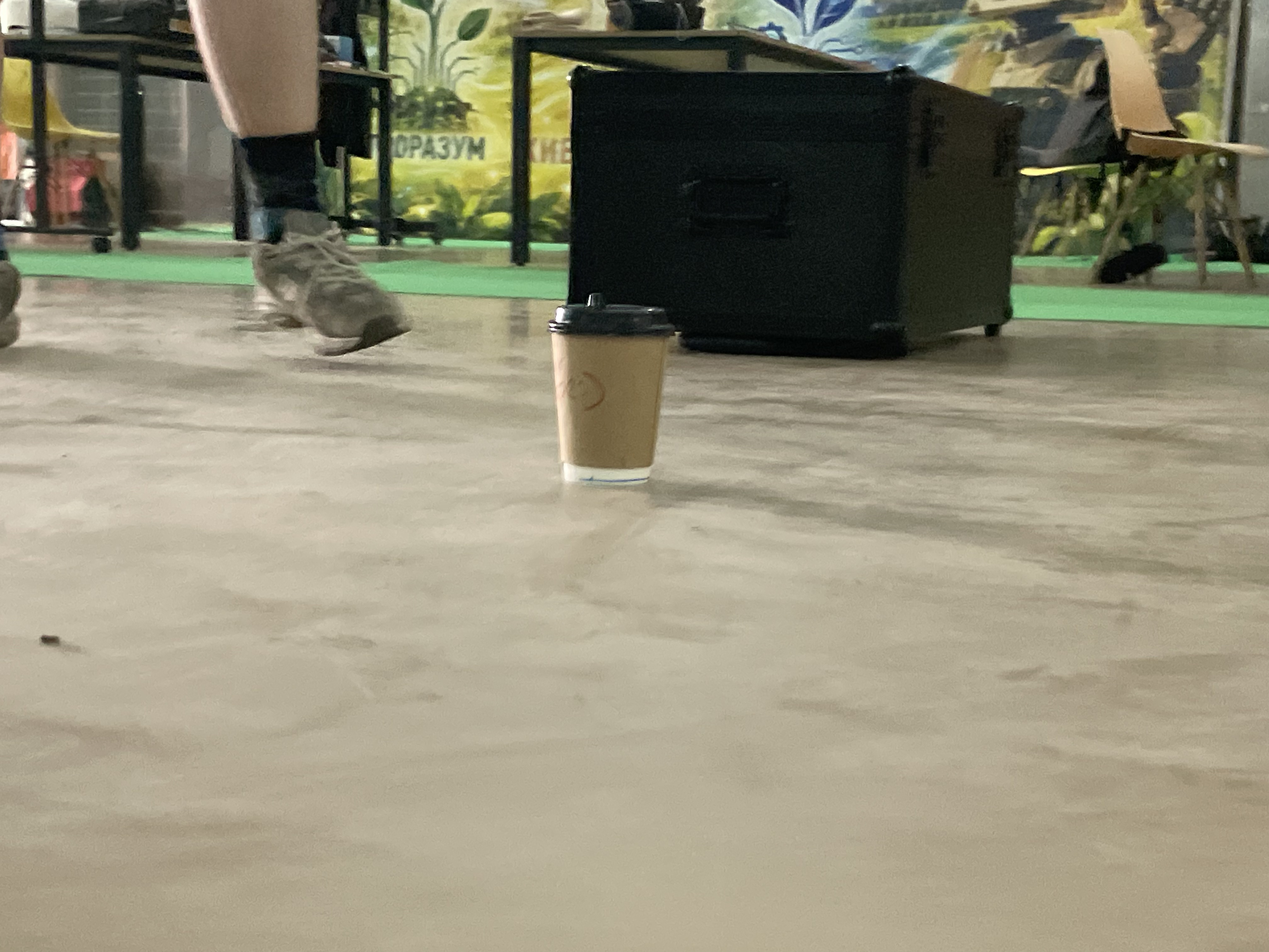cup: (548, 294, 675, 485)
